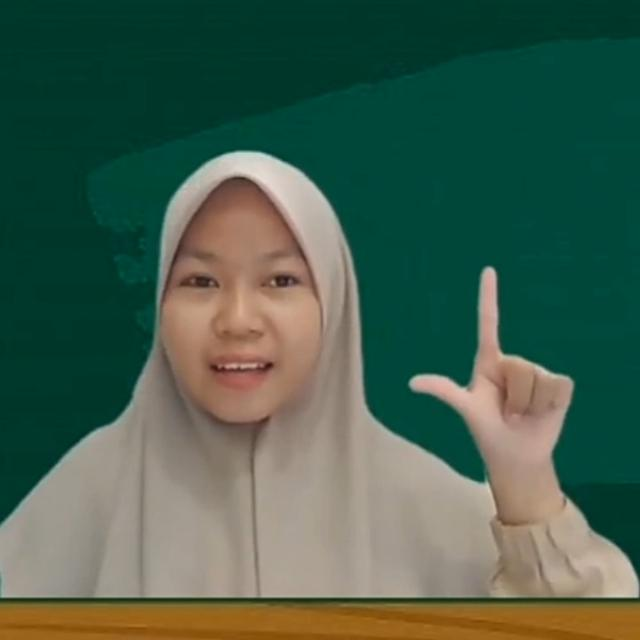L: (407, 260, 577, 466)
